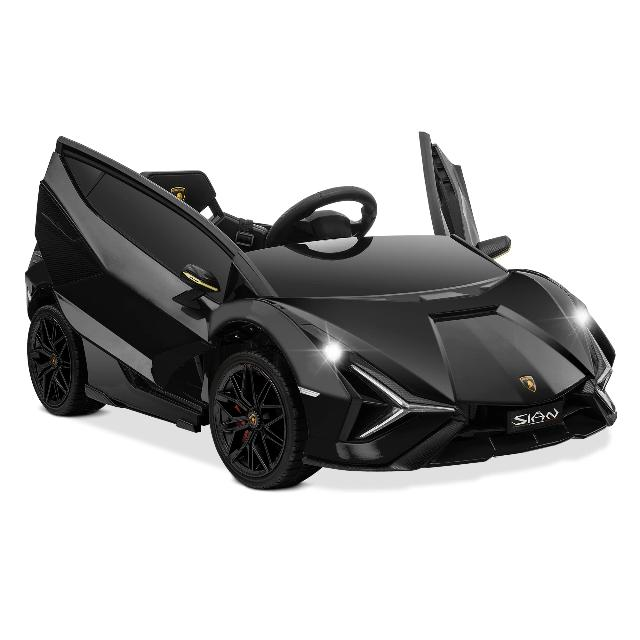lamborghini: (26, 131, 618, 489)
